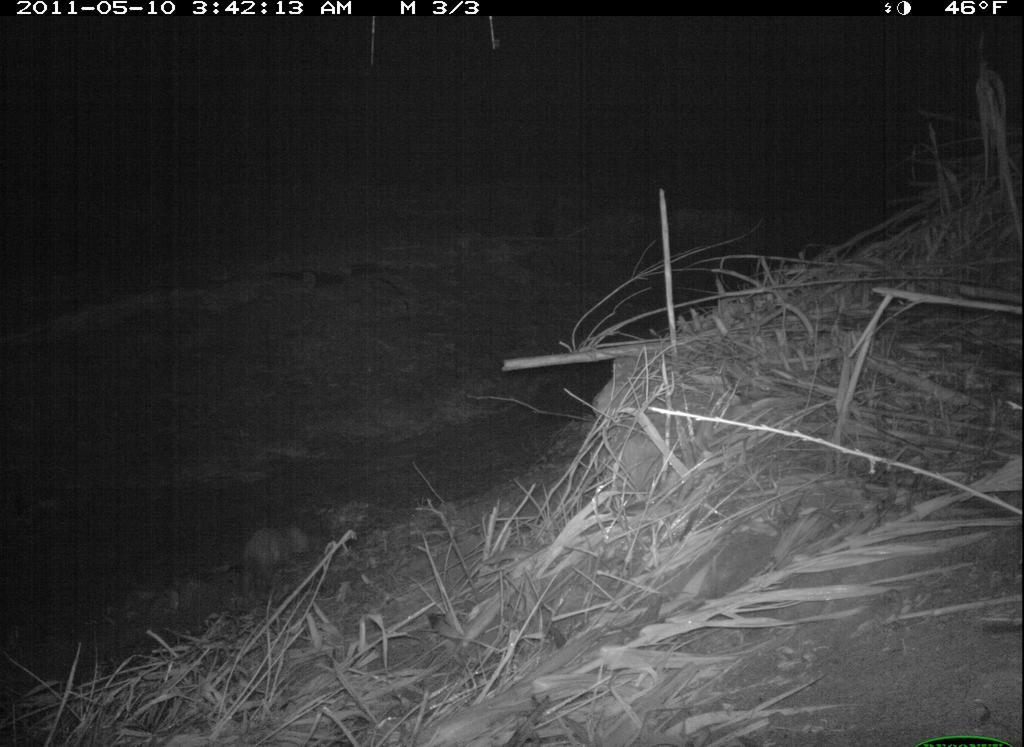opossum: (221, 510, 327, 603)
